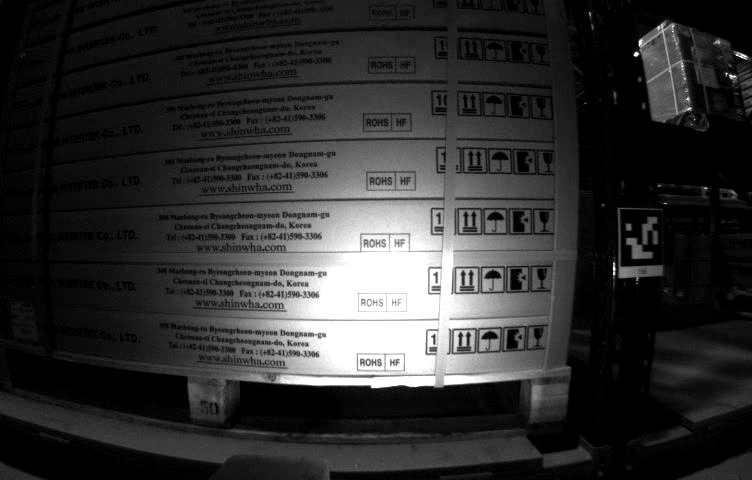True Barcode: (10, 297, 34, 341)
